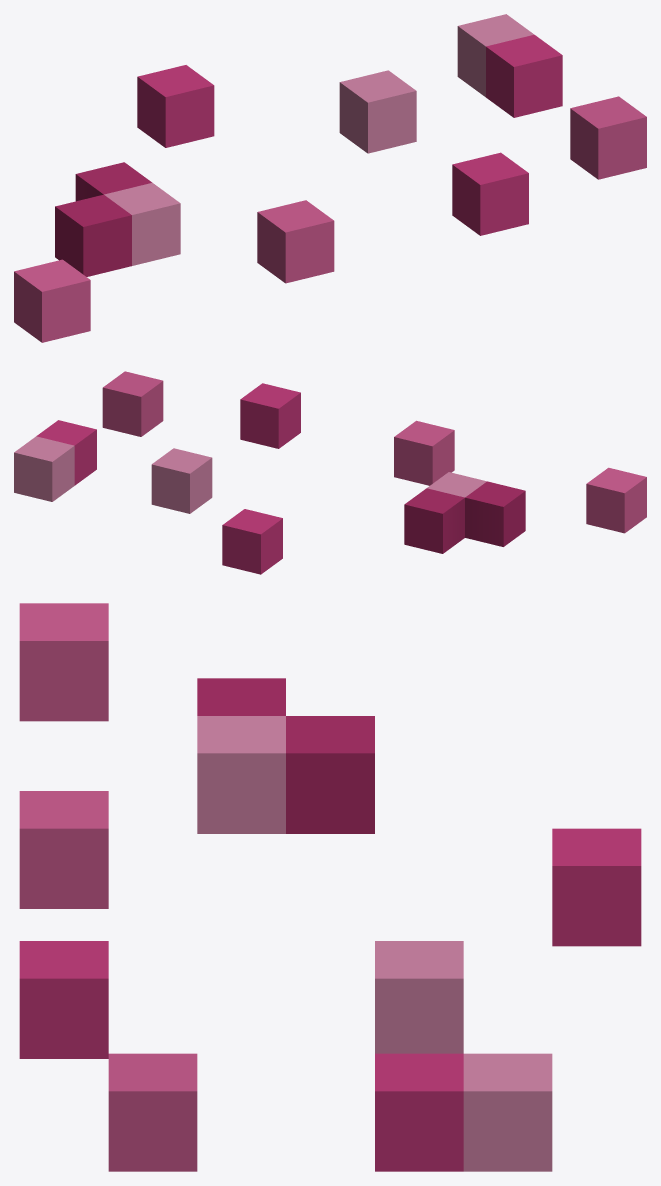
File: float_pink.glb
3 renders of one model, top to bottom at view 1: azimuth 30°, elevation 25°; view 2: azimuth 150°, elevation 25°; view 3: azimuth 270°, elevation 25°, orthographic. The views are drawn at different scales.
Parts seen in each view (by area): view 1: float_pink; view 2: float_pink; view 3: float_pink.
Boxes of the visible parts, x1=… form: float_pink: x1=14, y1=14, x2=646, y2=342; float_pink: x1=14, y1=371, x2=646, y2=574; float_pink: x1=19, y1=603, x2=641, y2=1171.
Size of the model in its own units: 0.8125 by 0.0625 by 0.4375.
